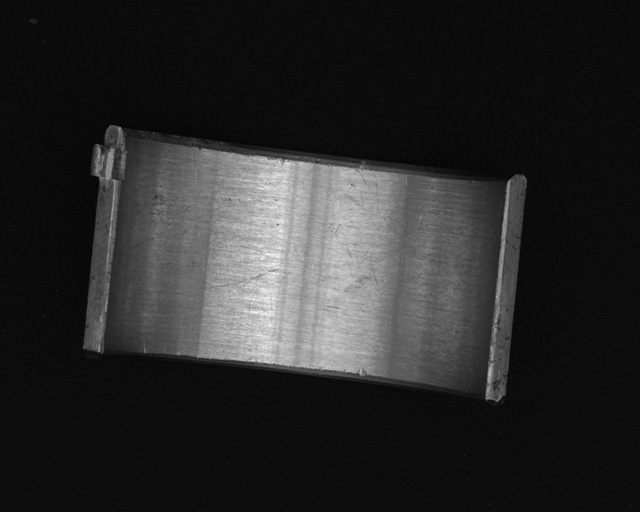blot: (342, 246, 401, 296)
bruise: (358, 368, 368, 377)
nick: (141, 339, 148, 355)
